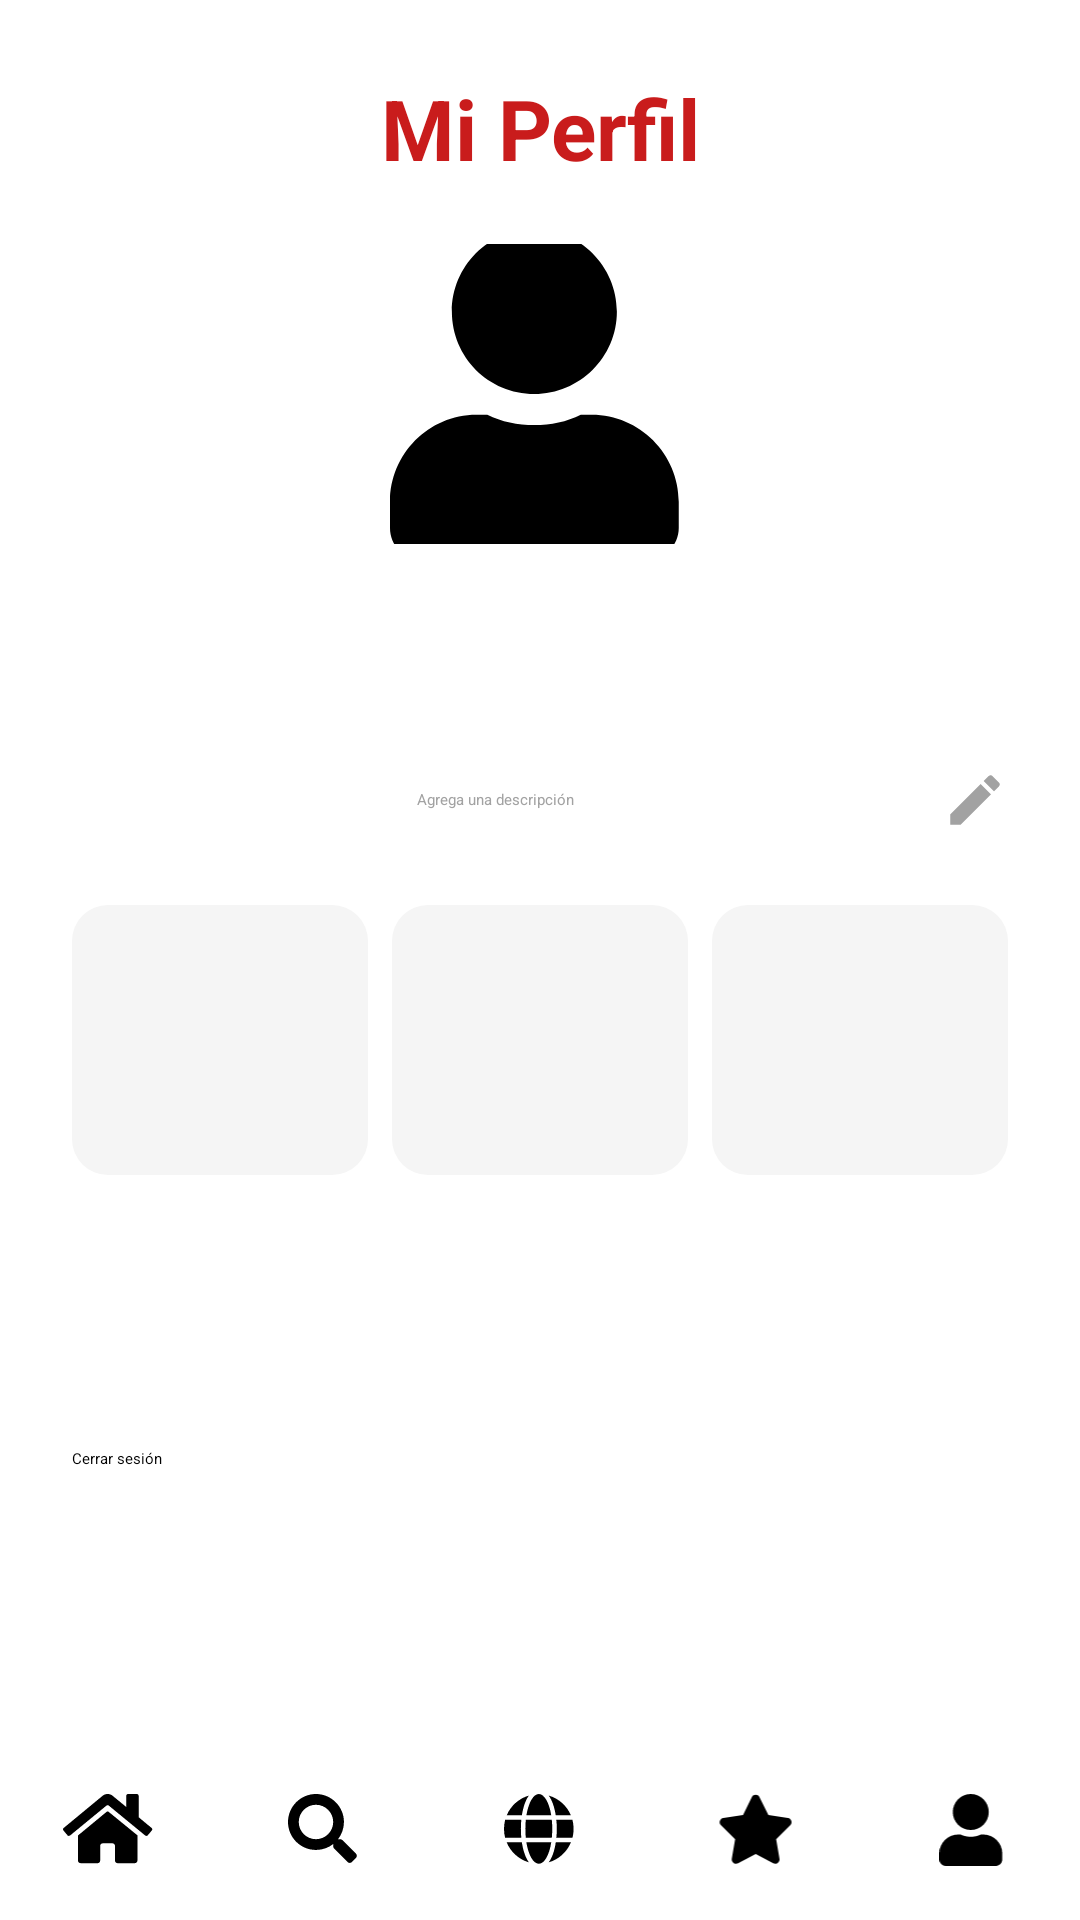

Locate icon controls on the screen. Image size 1080px x 1920px, boxes as (x1, y1, x2, y2).
edit: (950, 775, 1000, 825)
Foto de perfil: (390, 244, 679, 544)
globe: (504, 1794, 574, 1864)
home: (63, 1794, 153, 1864)
search: (288, 1794, 357, 1863)
star: (719, 1794, 792, 1864)
user: (939, 1794, 1003, 1866)
